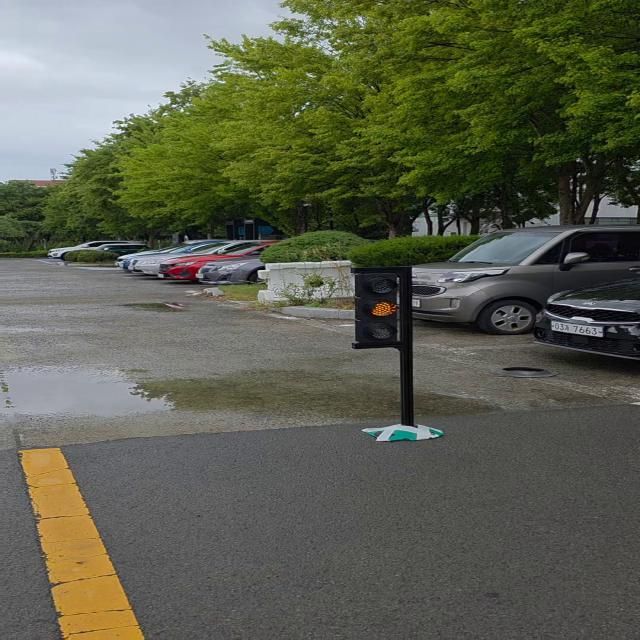yellow: (358, 269, 408, 346)
